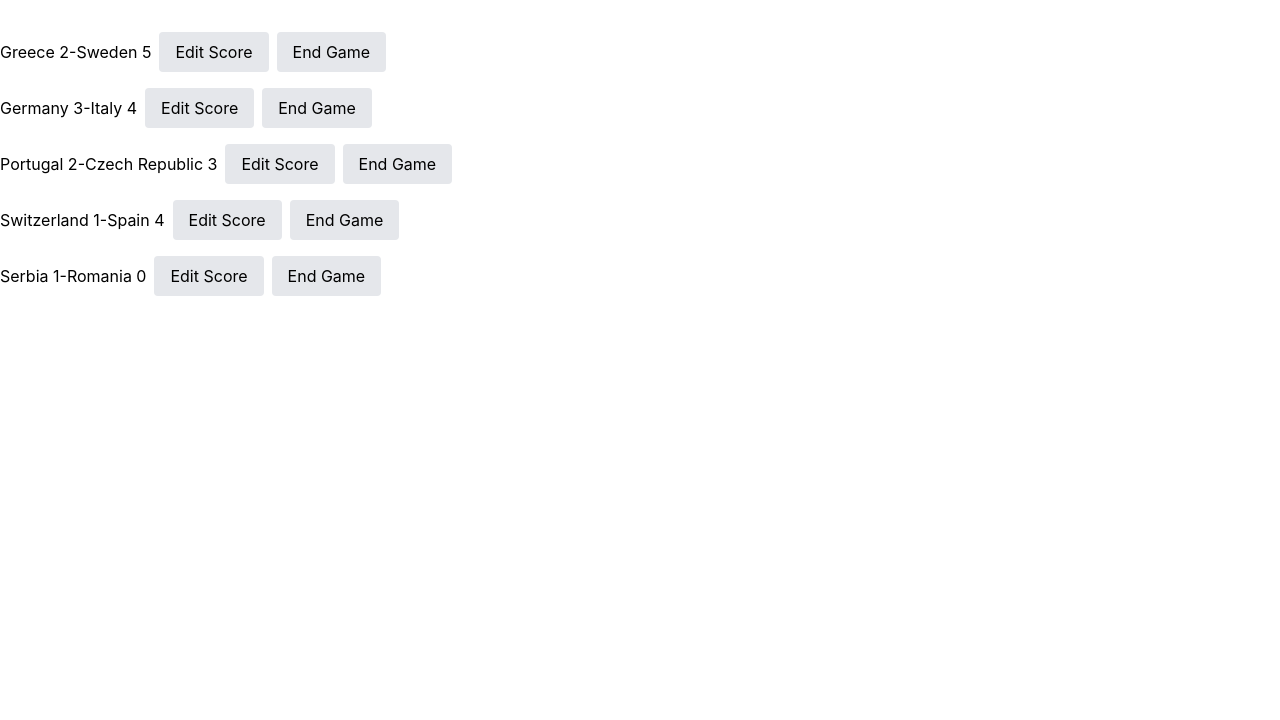
Test: test games list layout › test list item displaying list of games
expect the element with test id "list-container" is shown: met, box [0,32,452,296]
expect the element with test id "game-list-item-0" is shown: met, box [0,32,386,72]
Click the button with test id "score-btn-0".
click(214, 52)  # box [159,32,268,72]
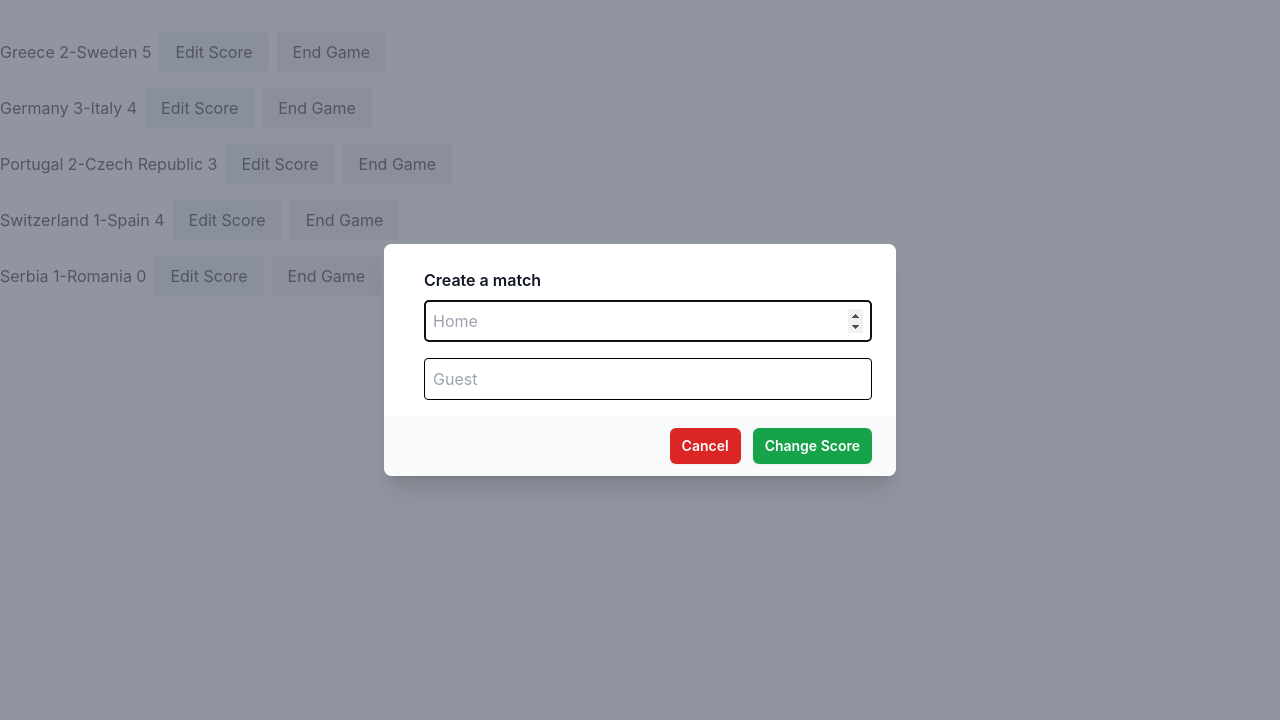
expect the form with test id "update-score-form" is shown: met, box [384,244,896,476]
